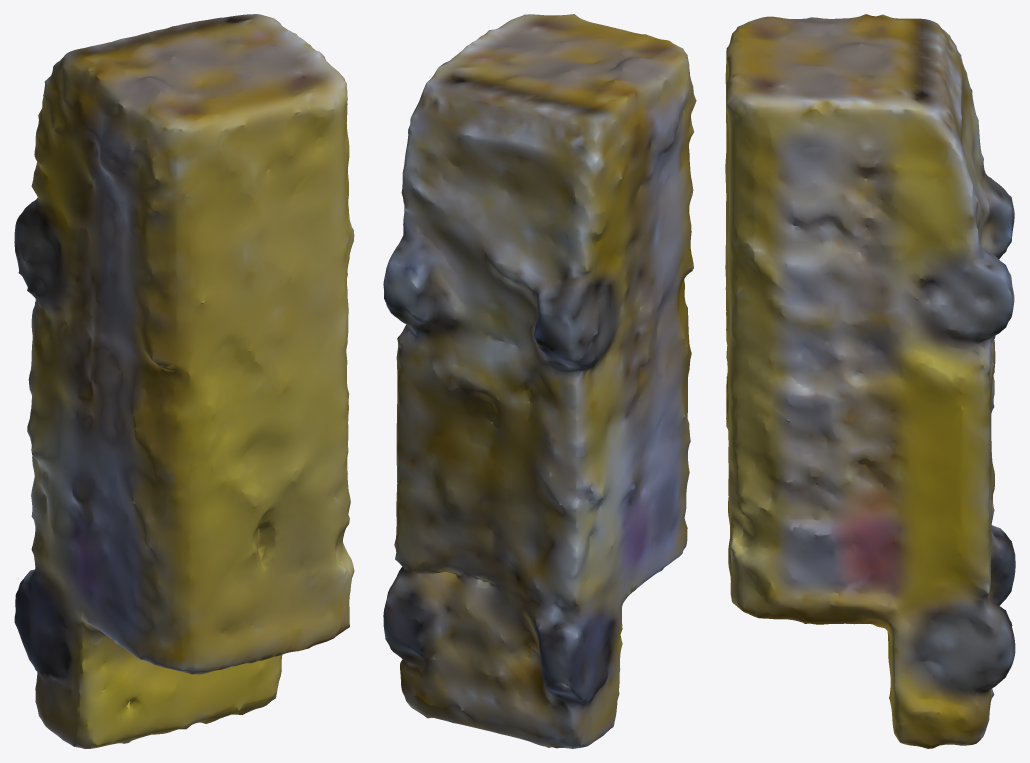
Rendered from school_bus1.glb.
3 views of the same model, side by side, from view 1: azimuth 30°, elevation 25°; view 2: azimuth 150°, elevation 25°; view 3: azimuth 270°, elevation 25° (orthographic). The views are drawn at different scales.
Size of the model in its own units: 0.3329 by 0.9965 by 0.3978.
